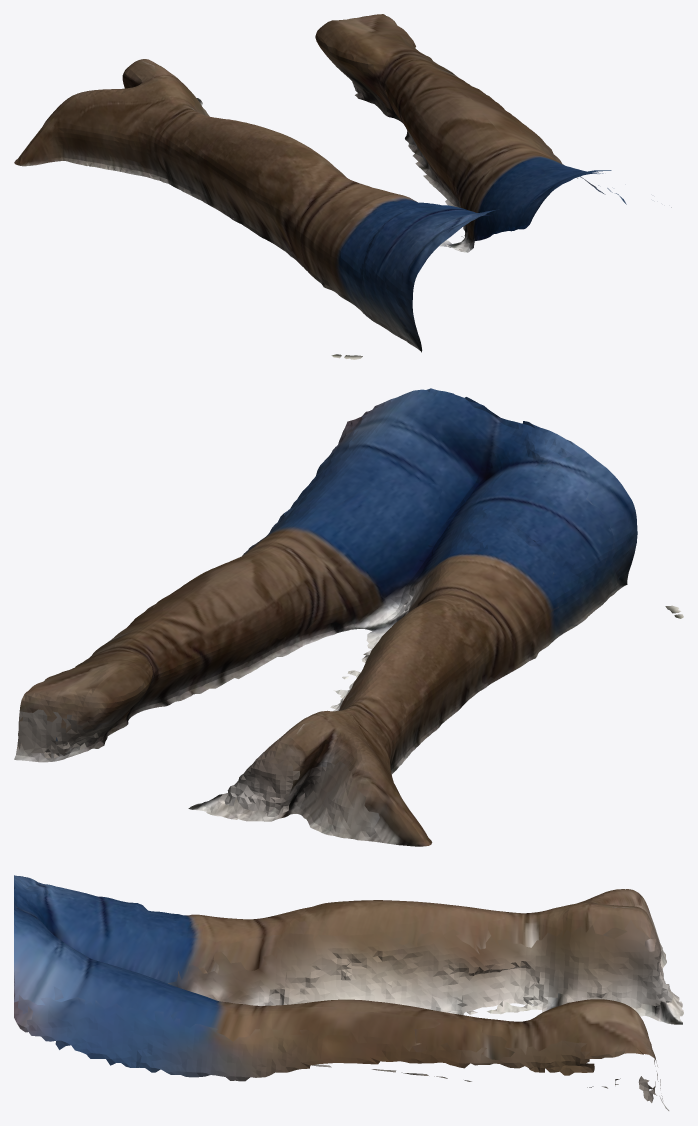
3 views of the same model, one above another, from view 1: azimuth 30°, elevation 25°; view 2: azimuth 150°, elevation 25°; view 3: azimuth 270°, elevation 25° (orthographic). The views are drawn at different scales.
Size of the model in its own units: 0.5746 by 0.2042 by 0.8457.
Materials: 1 (1 with a texture image).
